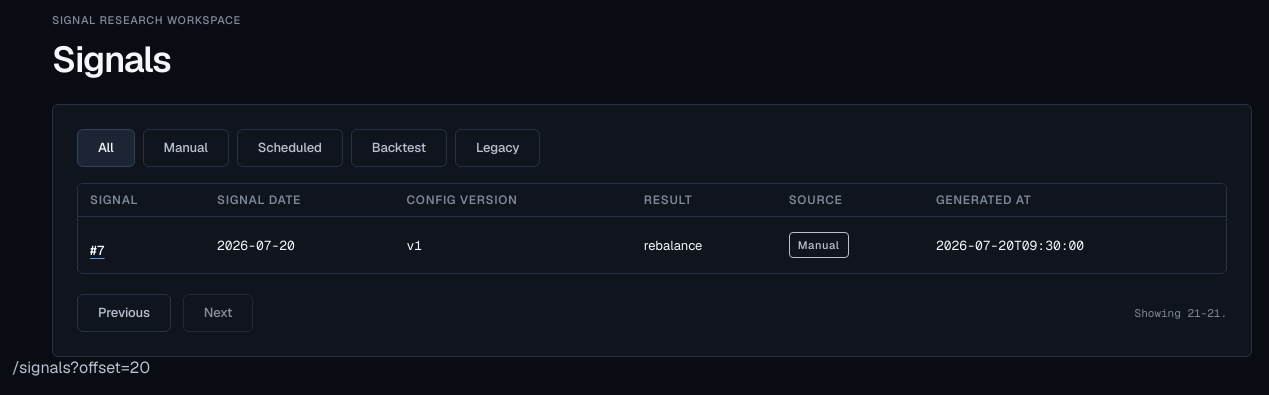
returns to the first page when the source filter changes
The image size is (1269, 395).
Check: the link "#7" is shown, box [90, 241, 104, 261]
Click the button "Backtest" at (399, 148), box [351, 129, 447, 167]
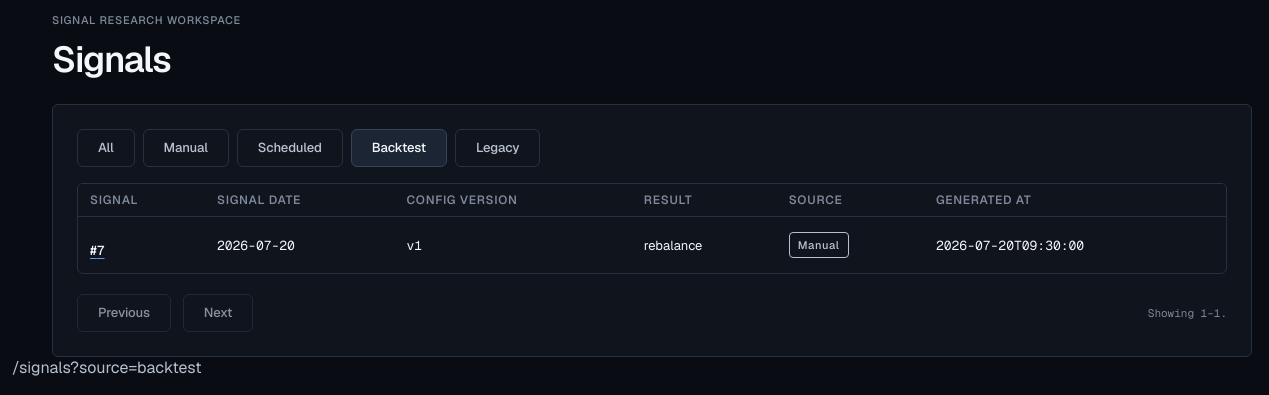
Check: the text with test id "location-probe" reads "/signals?source=backtest", box [12, 357, 202, 378]
